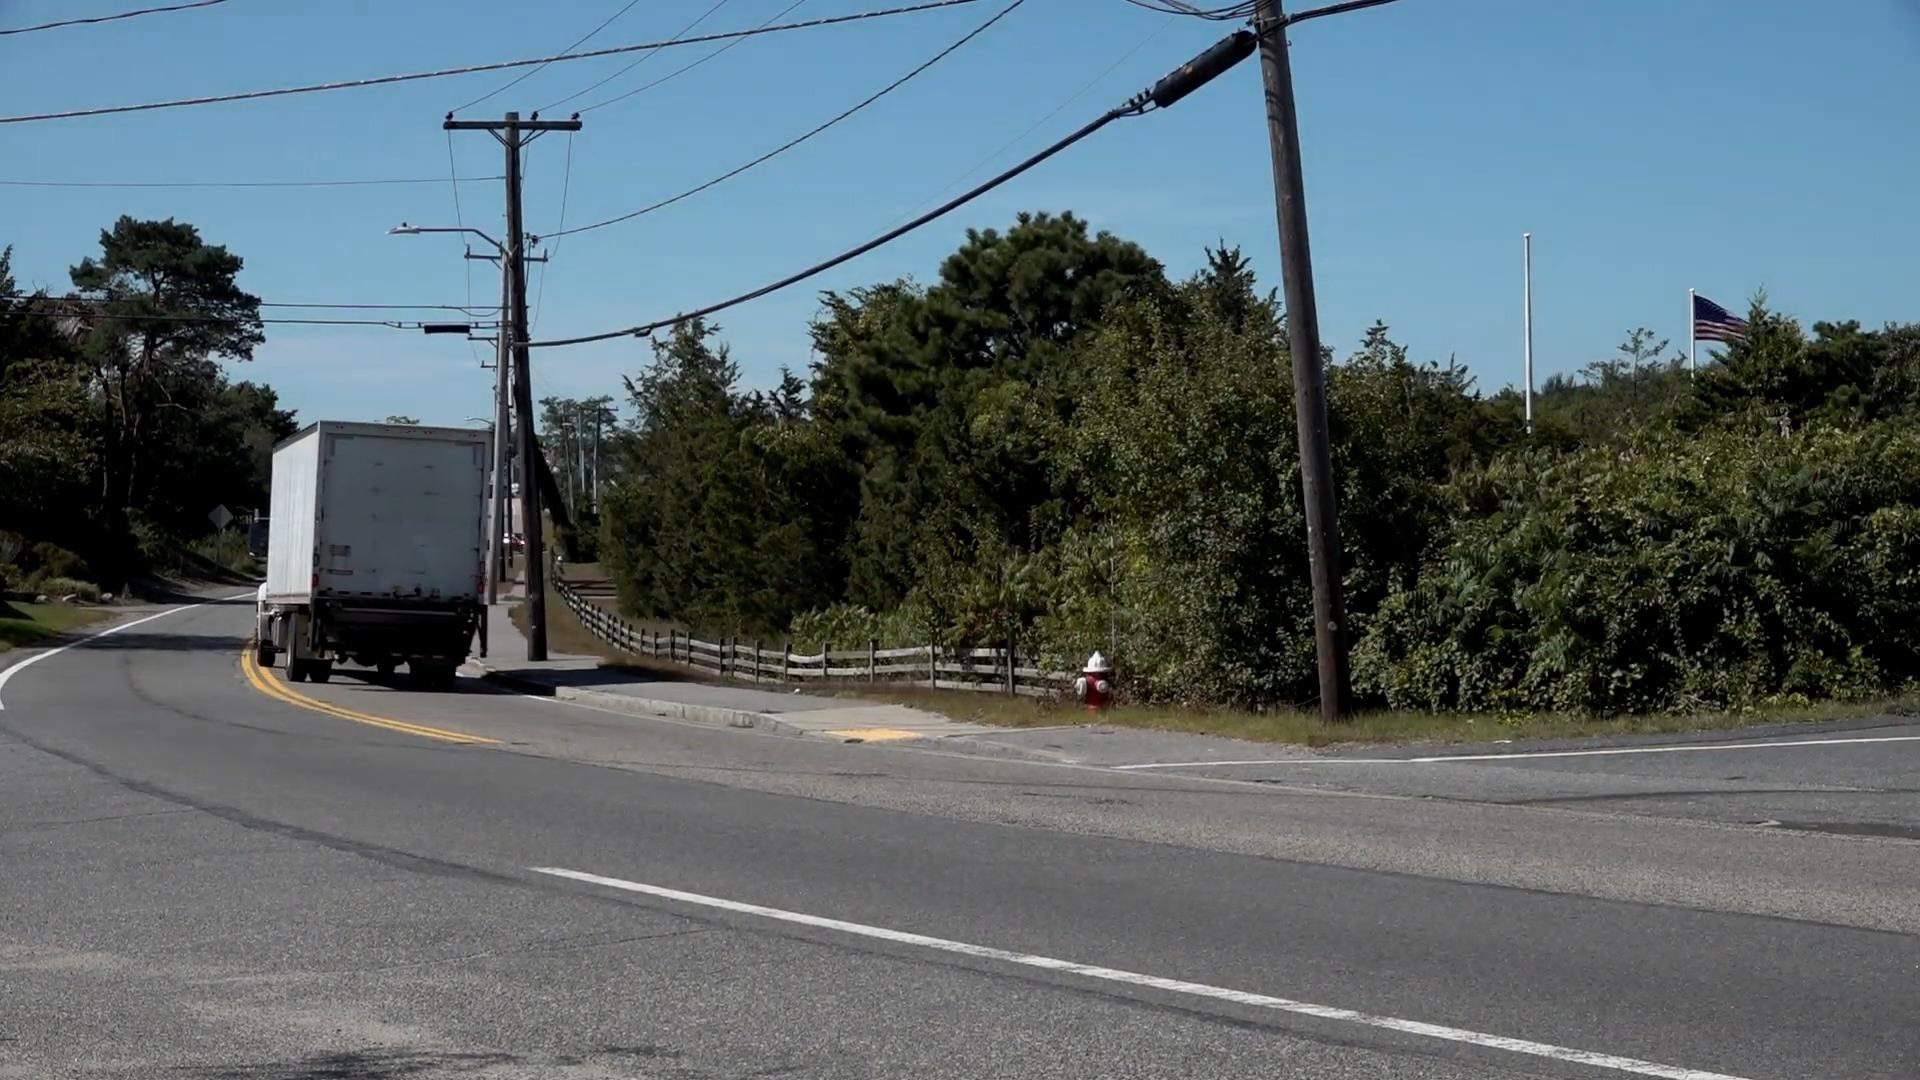truck: (255, 419, 492, 682)
